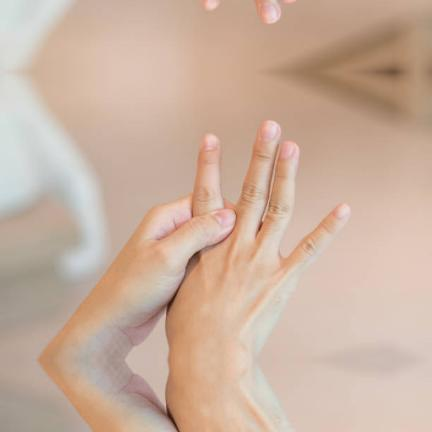Nail: (259, 121, 281, 140), (259, 4, 281, 23), (215, 210, 235, 228), (333, 203, 352, 219), (280, 141, 296, 159), (202, 134, 220, 150), (202, 0, 220, 10), (284, 0, 296, 3)
